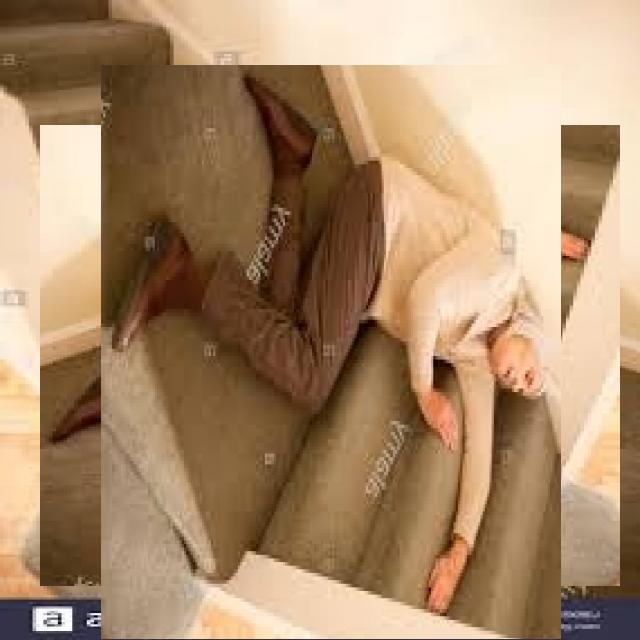Fall: (103, 57, 640, 615)
